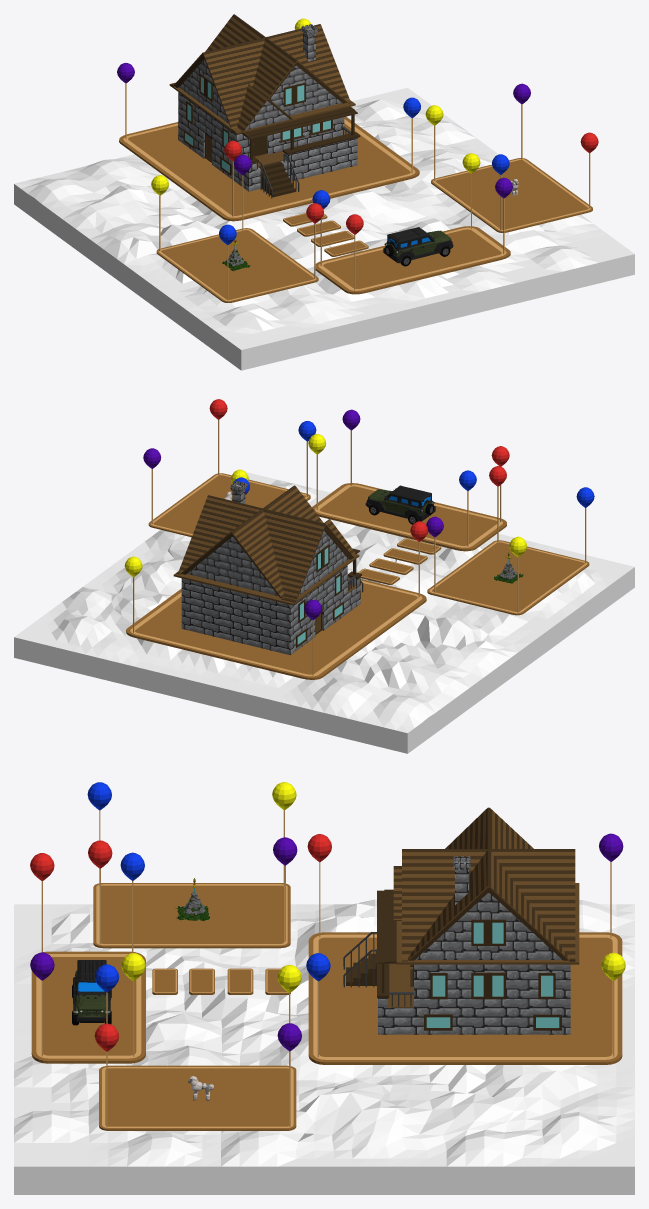
3 renders of one model, top to bottom at view 1: azimuth 30°, elevation 25°; view 2: azimuth 150°, elevation 25°; view 3: azimuth 270°, elevation 25°, orthographic. The views are drawn at different scales.
Parts seen in each view (by area): view 1: Cube.013, Cube.586, VEHICLES_JEEP; view 2: Cube.013, Cube.586, VEHICLES_JEEP; view 3: Cube.013, Cube.586, VEHICLES_JEEP, OBJRANDOM_SWORD_IN_THE_STONE.
Part boxes in pixels (bbox=[...]): Cube.013: bbox=[14, 18, 634, 370]; Cube.586: bbox=[169, 14, 360, 198]; VEHICLES_JEEP: bbox=[383, 227, 453, 266]; Cube.013: bbox=[14, 399, 634, 753]; Cube.586: bbox=[173, 481, 363, 654]; VEHICLES_JEEP: bbox=[365, 485, 435, 524]; Cube.013: bbox=[14, 782, 634, 1194]; Cube.586: bbox=[343, 807, 579, 1034]; VEHICLES_JEEP: bbox=[72, 960, 111, 1025]; OBJRANDOM_SWORD_IN_THE_STONE: bbox=[175, 878, 209, 920].
Bounding box in the file's own units: 4000 × 1675 × 4000.
36 materials, 2 textured.
